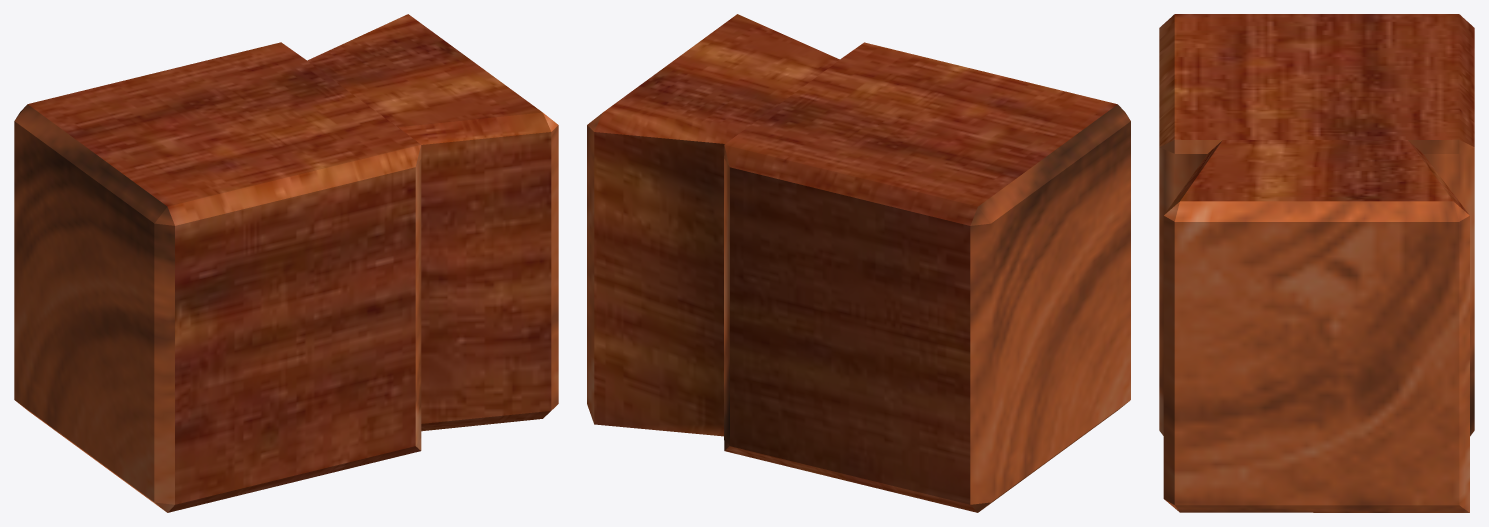
File: baxianzhuo_J_saizi_05.FBX
3 views of the same model, side by side, from view 1: azimuth 30°, elevation 25°; view 2: azimuth 150°, elevation 25°; view 3: azimuth 270°, elevation 25° (orthographic).
Visible parts, largest first — view 1: baxianzhuo_J_saizi_05; view 2: baxianzhuo_J_saizi_05; view 3: baxianzhuo_J_saizi_05.
Boxes of the visible parts, box(x1,y1,x2,y2) form: baxianzhuo_J_saizi_05: box(14, 14, 558, 512); baxianzhuo_J_saizi_05: box(587, 14, 1130, 512); baxianzhuo_J_saizi_05: box(1159, 14, 1474, 512).
Size of the model in its own units: 1.85 by 1.34 by 1.23.
Materials: 2 (2 with a texture image).
